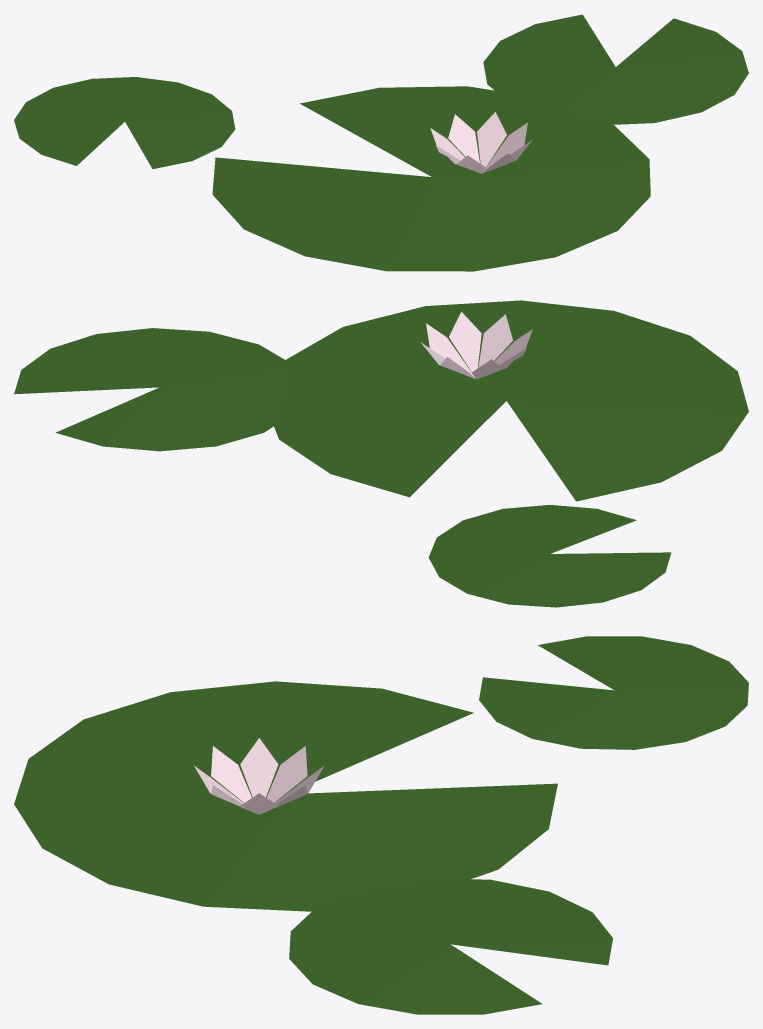
Rendered from n-lilyLarge.glb.
3 renders of one model, top to bottom at view 1: azimuth 30°, elevation 25°; view 2: azimuth 150°, elevation 25°; view 3: azimuth 270°, elevation 25°, orthographic. The views are drawn at different scales.
Parts seen in each view (by area): view 1: lily; view 2: lily; view 3: lily.
Boxes of the visible parts, box(x1,y1,x2,y2) form: lily: box(14, 14, 748, 271); lily: box(14, 300, 748, 607); lily: box(14, 636, 748, 1014).
Bounding box in the file's own units: 3.28 × 0.22 × 2.69.
